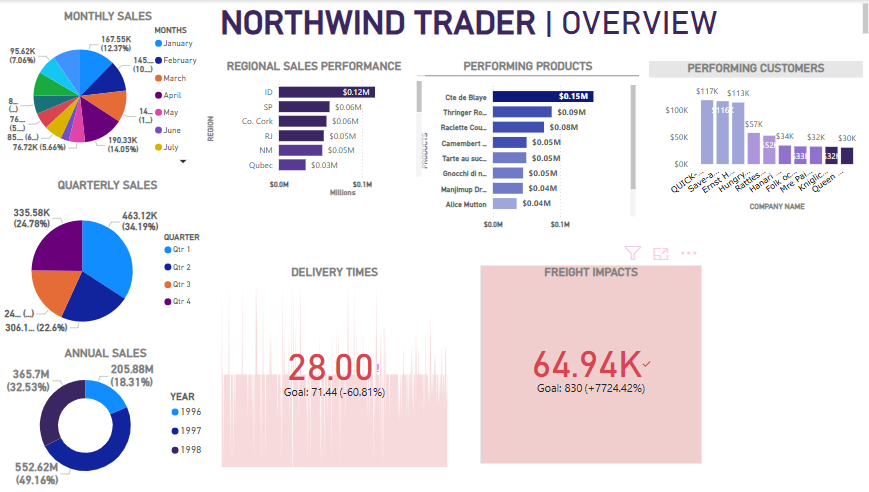

Layout of this report page (visuals, bound fields, positions):
{"tool":"powerbi","page":{"name":"DASHBOARD","canvas":[1280,720],"ordinal":0},"visuals":[{"type":"textbox","box":[0,0,1280.5,58.5],"z":0},{"type":"pieChart","title":"MONTHLY SALES","fields":{"Y":["orders.Trend Sales"],"Category":["orders.OrderDate.Variation.Date Hierarchy.Month"]},"box":[7.3,13.2,310.2,235.6],"z":1000},{"type":"pieChart","title":"QUARTERLY SALES","fields":{"Y":["orders.QuarterlySales"],"Category":["orders.OrderDate.Variation.Date Hierarchy.Quarter"]},"box":[0,260.5,323.4,253.2],"z":2000},{"type":"clusteredBarChart","title":"PERFORMING PRODUCTS","fields":{"Category":["northwind performing_products.products"],"Y":["Sum(northwind performing_products.Total_Sales)"]},"box":[614.6,86.3,324.9,263.4],"z":3000},{"type":"columnChart","title":"PERFORMING CUSTOMERS","fields":{"Category":["northwind performing_customer.CompanyName"],"Y":["Sum(northwind performing_customer.Totalsales)"]},"box":[954.1,89.3,313.2,223.9],"z":4000},{"type":"barChart","title":"REGIONAL SALES PERFORMANCE","fields":{"Category":["regional sales performance.region"],"Y":["Sum(regional sales performance.Regional Sales)"]},"box":[301.5,86.3,324.9,206.3],"z":5000},{"type":"kpi","title":"DELIVERY TIMES ","fields":{"Indicator":["orders.Delivery Times"],"TrendLine":["orders.OrderDate"],"Goal":["Sum(orders.Freight)"]},"box":[323.4,387.8,341,301.5],"z":6000},{"type":"kpi","title":"FREIGHT IMPACTS","fields":{"Indicator":["orders.Freight impact"],"TrendLine":["order details.Total_Sales"],"Goal":["CountNonNull(orders.OrderDate)"]},"box":[706.8,387.8,324.9,291.2],"z":7000},{"type":"donutChart","title":"ANNUAL SALES","fields":{"Category":["orders.OrderDate.Variation.Date Hierarchy.Year"],"Y":["Sum(orders.TotalSales)"]},"box":[0,506.3,317.6,213.7],"z":8000}]}

Visuals, with their boxes in screenshot pixels (x1, y1, x2, y2), scaled from the page's 1280x720 canvas onto the 869x492 screenshot:
textbox: 0, 0, 868, 40
"MONTHLY SALES" pieChart: 5, 9, 216, 170
"QUARTERLY SALES" pieChart: 0, 178, 220, 351
"PERFORMING PRODUCTS" clusteredBarChart: 417, 59, 638, 239
"PERFORMING CUSTOMERS" columnChart: 648, 61, 860, 214
"REGIONAL SALES PERFORMANCE" barChart: 205, 59, 425, 200
"DELIVERY TIMES " kpi: 220, 265, 451, 471
"FREIGHT IMPACTS" kpi: 480, 265, 700, 464
"ANNUAL SALES" donutChart: 0, 346, 216, 491
